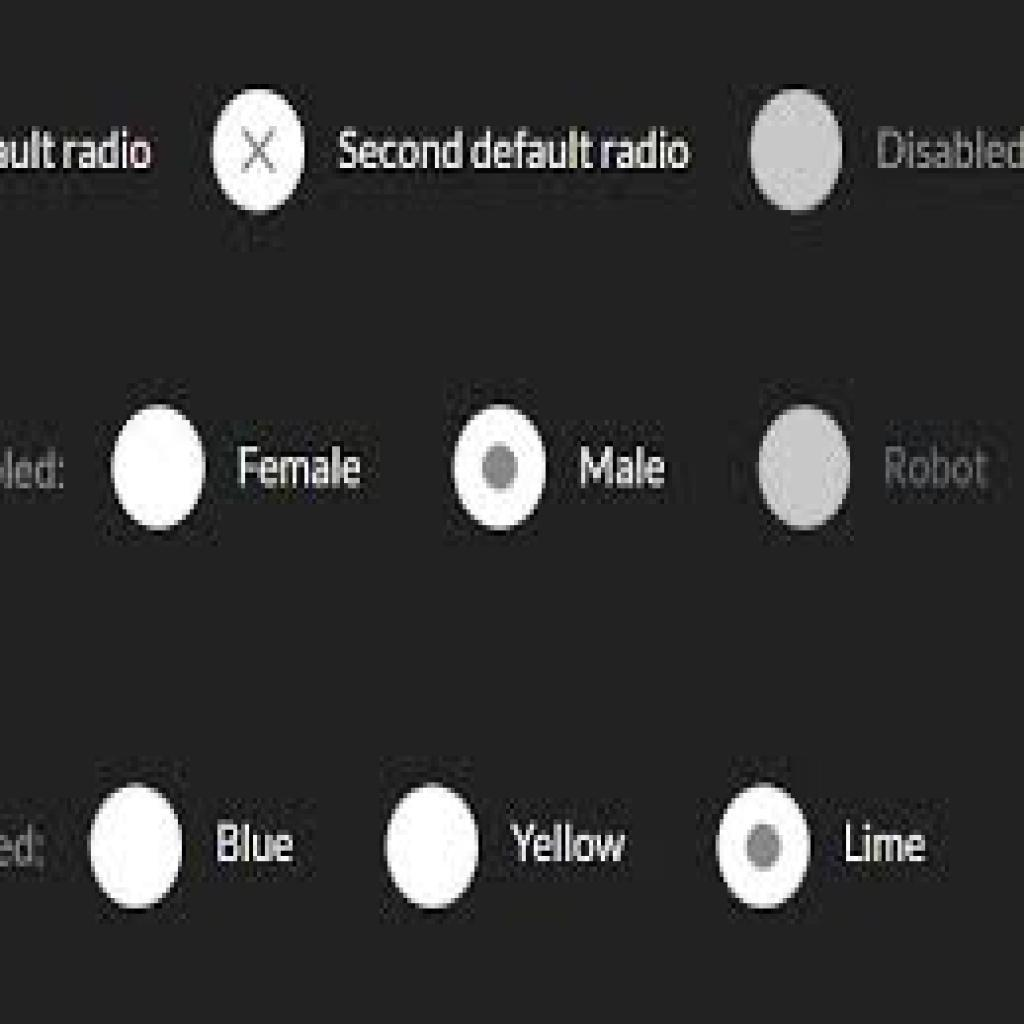radio: (209, 89, 312, 214), (83, 782, 185, 908), (451, 402, 549, 533), (385, 784, 483, 912), (715, 779, 810, 911), (760, 402, 853, 533), (114, 402, 206, 531), (749, 91, 846, 213)
